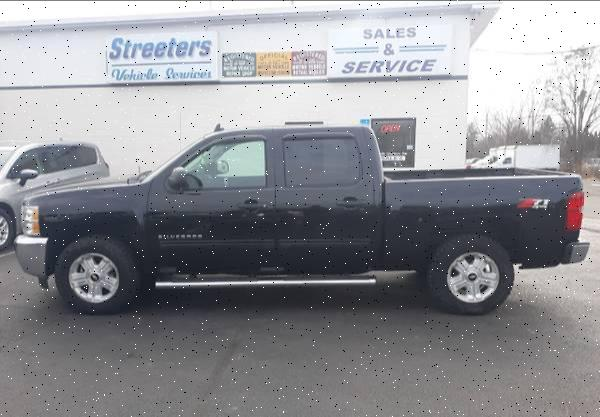Front_Bumper: (15, 233, 58, 278)
Front_Fender: (22, 178, 153, 275)
Front_Left_Door: (147, 183, 279, 272)
Front_Left_Window: (152, 128, 276, 187)
Left_Headlight: (20, 201, 41, 236)
Left_Taillight: (566, 186, 586, 230)
Rear_Bumper: (562, 240, 592, 265)
Rear_Fender: (381, 176, 580, 269)
Rear_Left_Door: (276, 181, 383, 266)
Rear_Left_Window: (277, 126, 384, 184)
Wheel: (53, 232, 137, 313), (430, 233, 516, 312)
